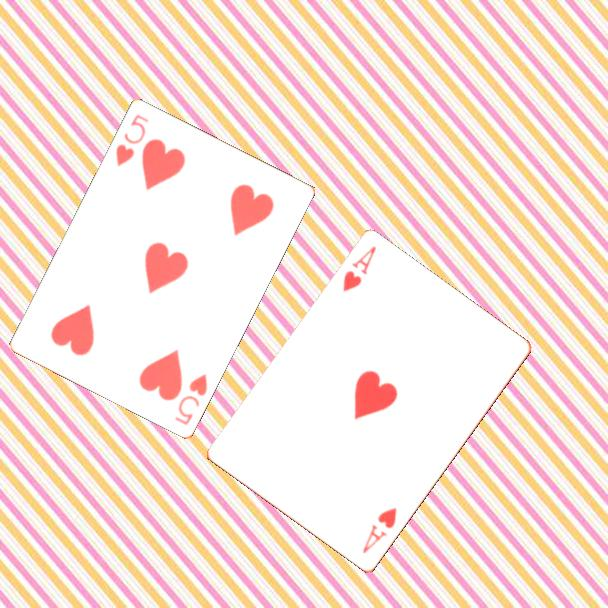h01: (359, 504, 400, 557), (339, 243, 379, 295)
h05: (112, 110, 152, 169), (171, 370, 210, 428)
